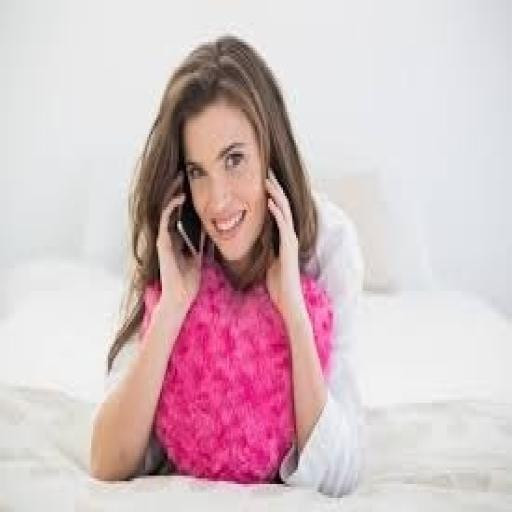calling: (87, 31, 367, 498)
